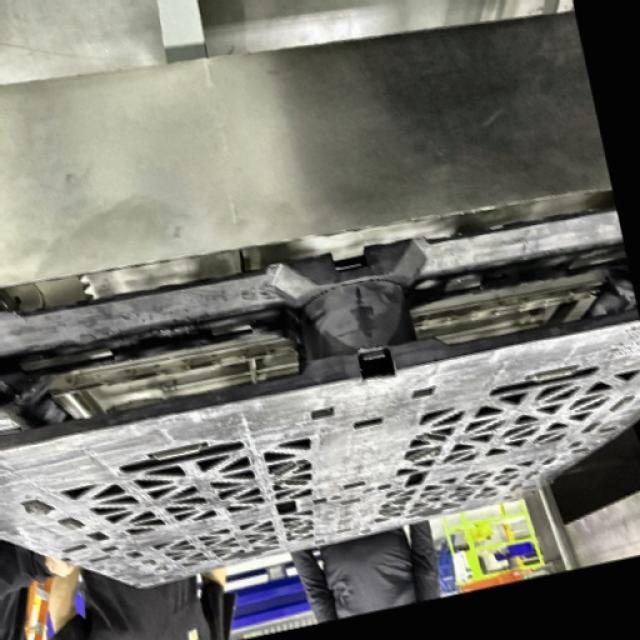igps: (0, 181, 640, 599)
